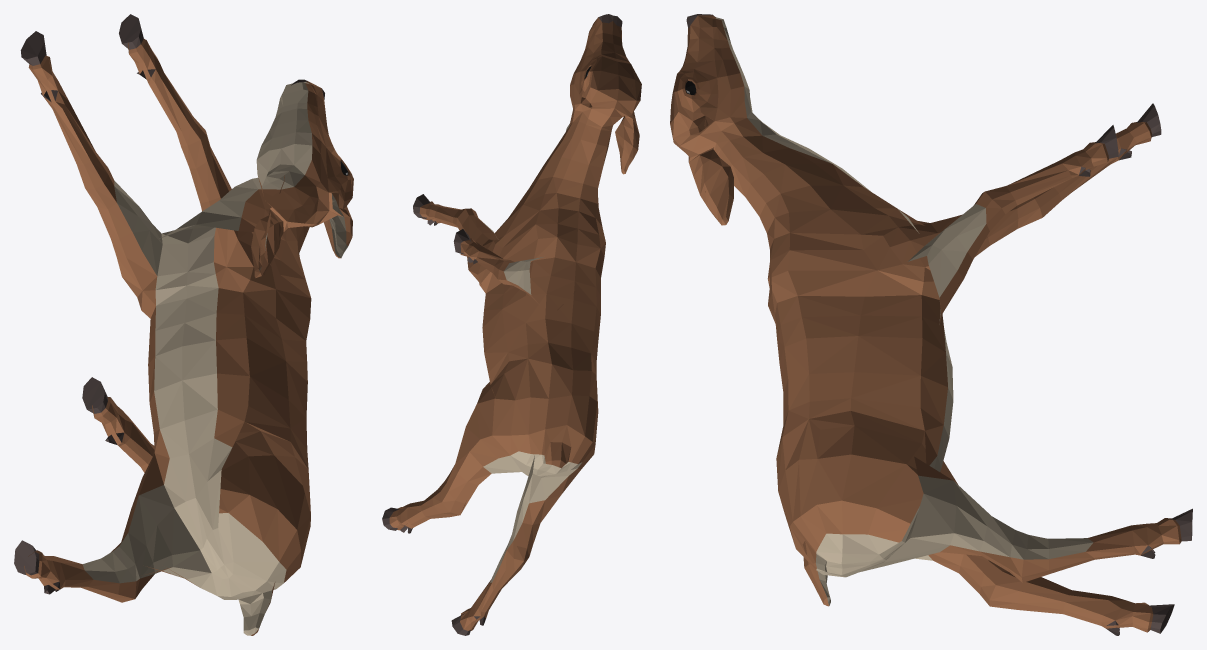
File: deer-gallop-3.glb
3 renders of one model, left to right at view 1: azimuth 30°, elevation 25°; view 2: azimuth 150°, elevation 25°; view 3: azimuth 270°, elevation 25°, orthographic. The views are drawn at different scales.
Bounding box in the file's own units: 0.3817 × 1.75 × 1.3.
